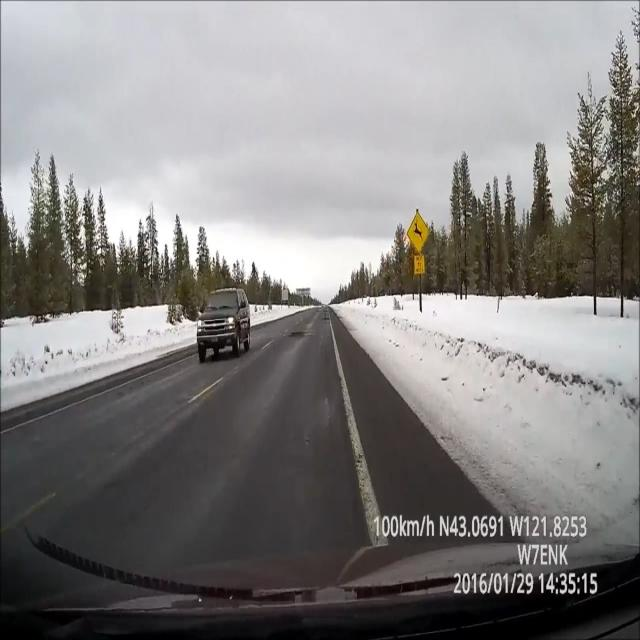Pothole: (288, 325, 314, 340)
